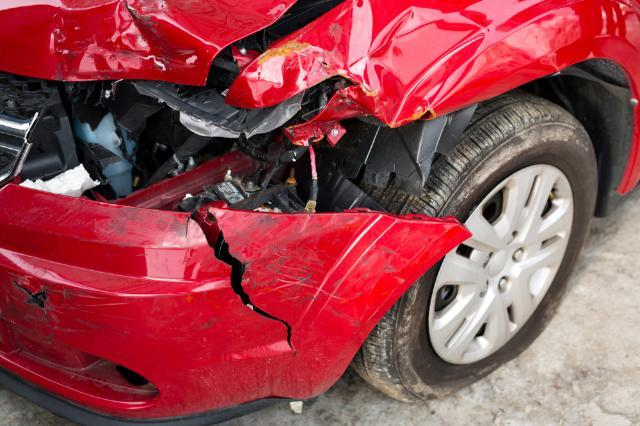crack: (185, 208, 297, 358), (9, 279, 49, 333)
dent: (247, 0, 487, 126), (54, 0, 207, 84)
scratch: (44, 205, 196, 333), (224, 213, 404, 310)
